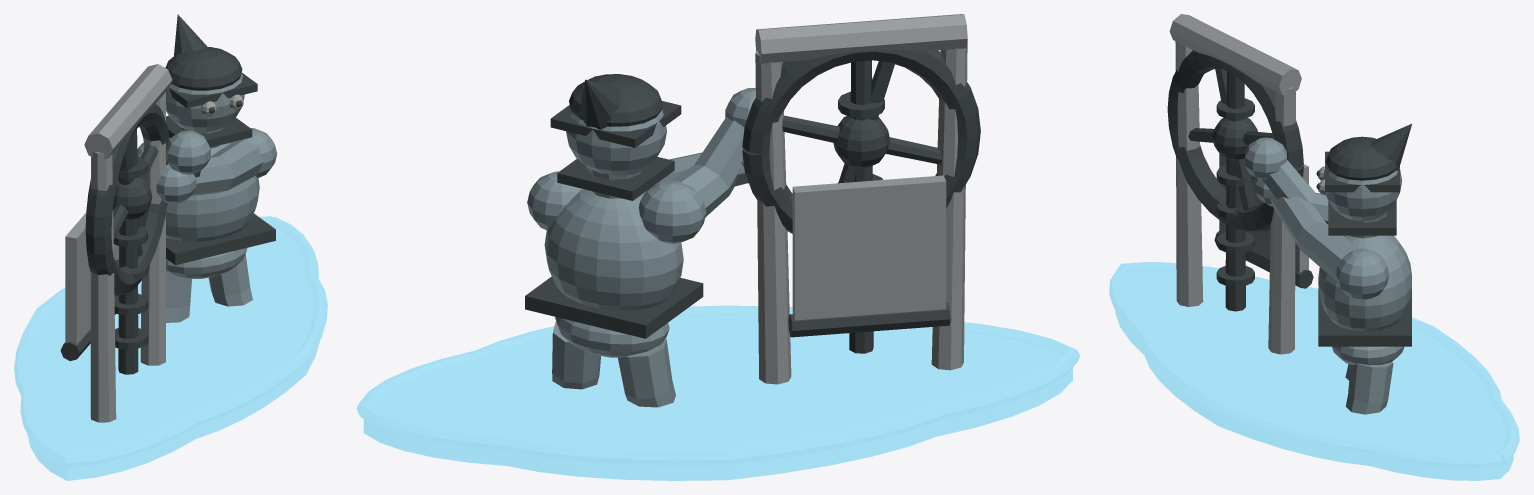
File: sluicekeeper_chibi.glb
The picture shows the model from 3 angles, left to right: view 1: azimuth 30°, elevation 25°; view 2: azimuth 150°, elevation 25°; view 3: azimuth 270°, elevation 25°; orthographic projection. The views are drawn at different scales.
Visible parts, largest first — view 1: sluicekeeper_chibi_glow, sluicekeeper_chibi_dark, sluicekeeper_chibi_body, sluicekeeper_chibi_bone; view 2: sluicekeeper_chibi_glow, sluicekeeper_chibi_bone, sluicekeeper_chibi_dark, sluicekeeper_chibi_body; view 3: sluicekeeper_chibi_glow, sluicekeeper_chibi_dark, sluicekeeper_chibi_body, sluicekeeper_chibi_bone.
Part boxes in pixels (left/top/right/bottom): sluicekeeper_chibi_glow: left=14, top=216, right=327, bottom=480; sluicekeeper_chibi_dark: left=60, top=14, right=275, bottom=374; sluicekeeper_chibi_body: left=137, top=73, right=277, bottom=322; sluicekeeper_chibi_bone: left=65, top=64, right=243, bottom=422; sluicekeeper_chibi_glow: left=356, top=305, right=1080, bottom=480; sluicekeeper_chibi_bone: left=755, top=14, right=967, bottom=384; sluicekeeper_chibi_dark: left=525, top=50, right=980, bottom=353; sluicekeeper_chibi_body: left=527, top=88, right=755, bottom=407; sluicekeeper_chibi_glow: left=1109, top=262, right=1519, bottom=480; sluicekeeper_chibi_dark: left=1167, top=50, right=1411, bottom=346; sluicekeeper_chibi_body: left=1245, top=137, right=1411, bottom=414; sluicekeeper_chibi_bone: left=1169, top=14, right=1329, bottom=354.
Size of the model in its own units: 3.5 by 2.5 by 3.06.
